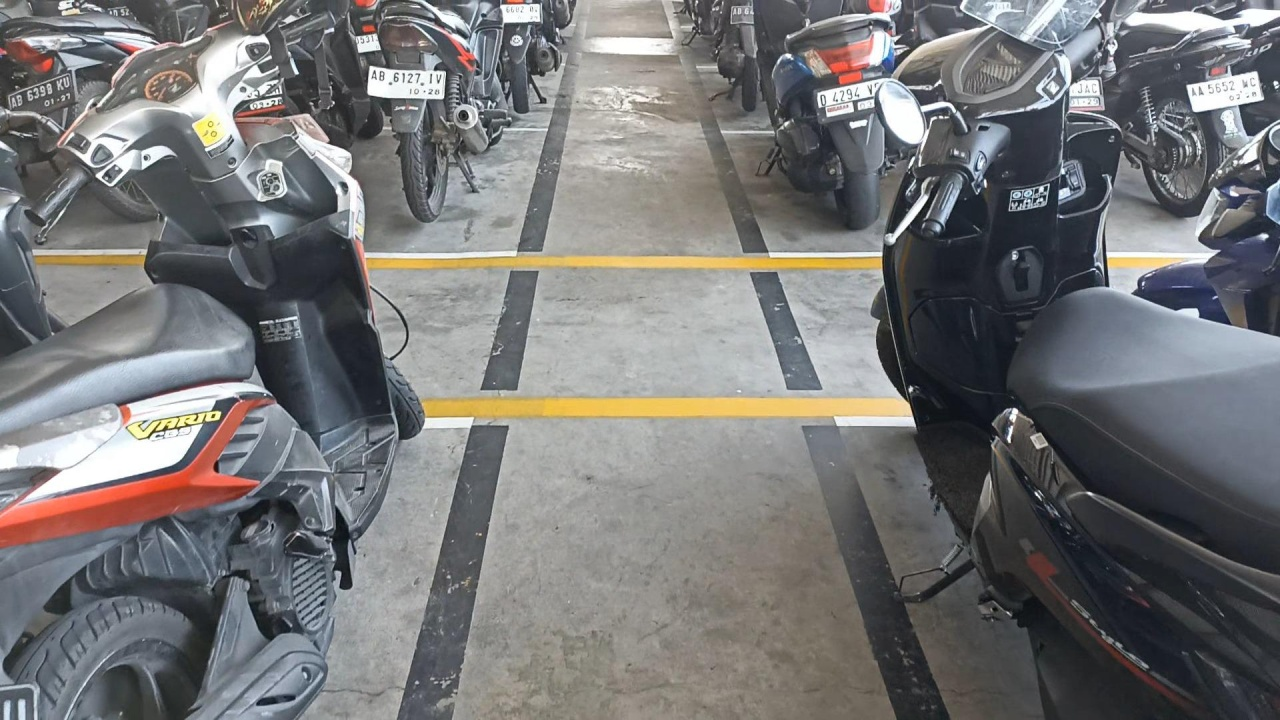plate: (368, 66, 446, 99)
